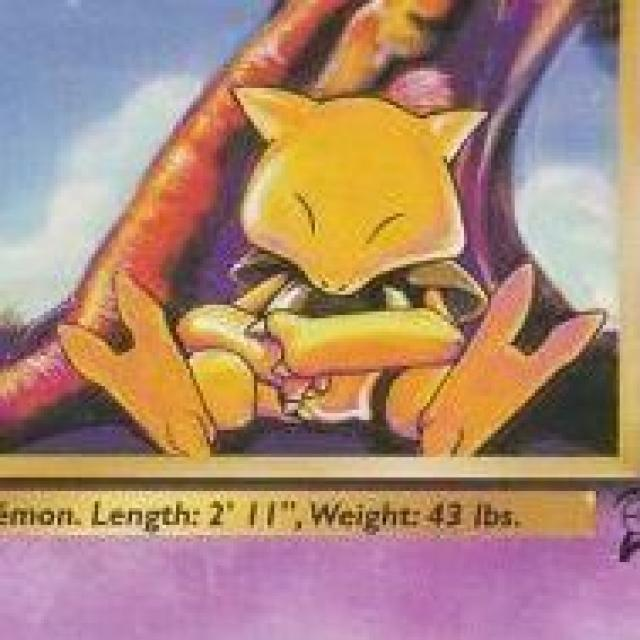Abra: (168, 87, 514, 448)
